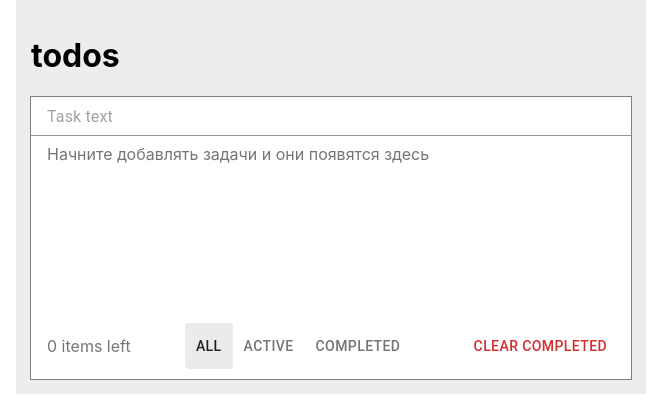
app works correctly with routes › should open active after click on active button
The image size is (663, 411).
Click the button "Active" at (269, 347), box x1=232 y1=323 x2=305 y2=370
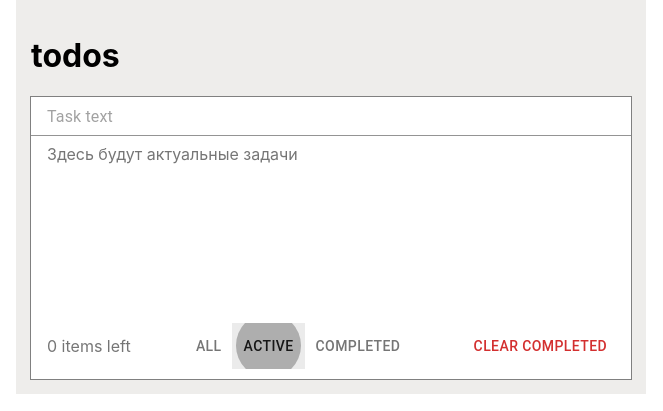
Now the text "Здесь будут актуальные задачи" is shown, box x1=47 y1=144 x2=298 y2=164
